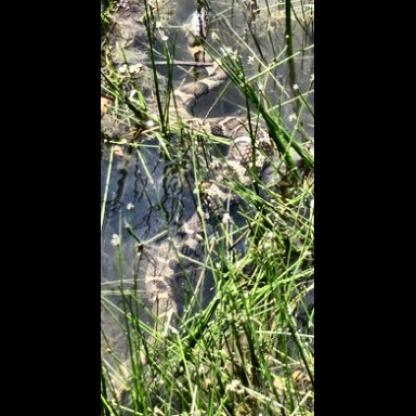Snake: (160, 0, 309, 228)
